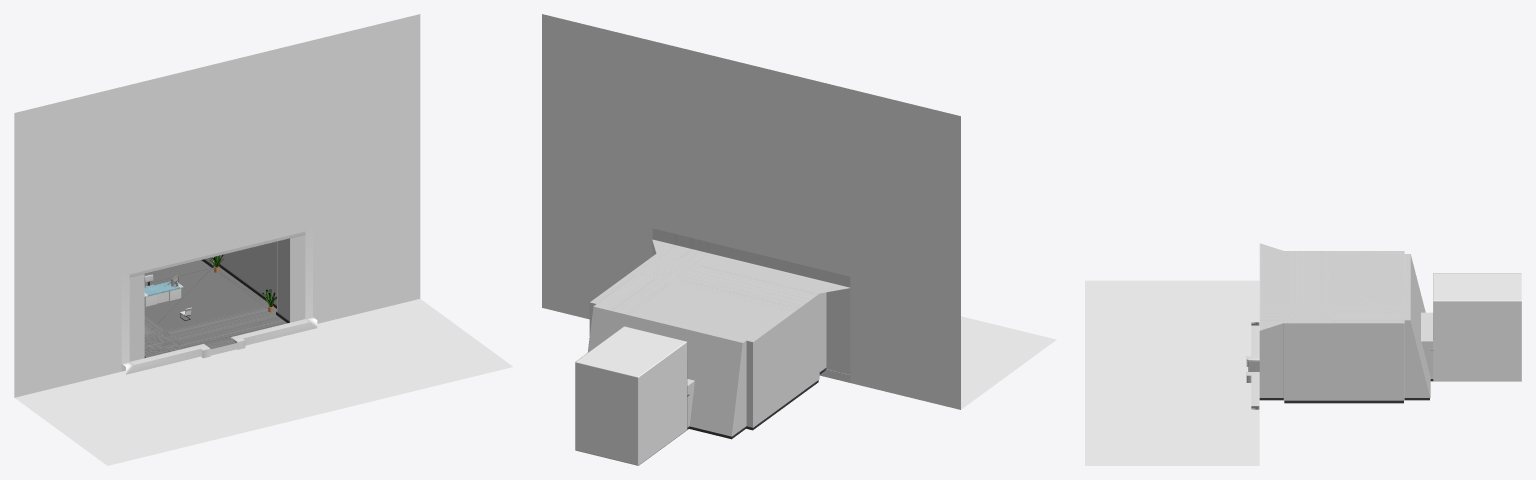
3 views of the same model, side by side, from view 1: azimuth 30°, elevation 25°; view 2: azimuth 150°, elevation 25°; view 3: azimuth 270°, elevation 25° (orthographic). The views are drawn at different scales.
Visible parts, largest first — view 1: a_pl02_outside_blank02:a_pl02_outside_blank01, um_a_pl02_model_a_pl02_modelShape:a_pl02_floor01_lmg04, um_a_pl02_model_a_pl02_modelShape:a_pl02_wall01_lmg09, nomerge_outside_edge_shape:mat_texture_edge01, um_a_pl02_model_a_pl02_modelShape:a_pl02_outsideedge01_lmg06, um_a_pl02_model_a_pl02_modelShape:a_pl02_loof01_lmg05; view 2: a_pl02_outside_blank02:a_pl02_outside_blank01, um_a_pl02_model_a_pl02_modelShape:a_pl02_wall01_lmg09, um_a_pl02_model_a_pl02_modelShape:a_pl02_loof01_lmg05, um_a_pl02_model_a_pl02_modelShape:a_pl02_outside_corridor01_; view 3: a_pl02_outside_blank02:a_pl02_outside_blank01, um_a_pl02_model_a_pl02_modelShape:a_pl02_wall01_lmg09, um_a_pl02_model_a_pl02_modelShape:a_pl02_loof01_lmg05, um_a_pl02_model_a_pl02_modelShape:a_pl02_outside_corridor01_, um_a_pl02_model_a_pl02_modelShape:a_pl02_outsideedge01_lmg06, um_a_pl02_model_a_pl02_modelShape:a_pl02_wall02_lmg09.
Part boxes in pixels (x1=…): a_pl02_outside_blank02:a_pl02_outside_blank01: x1=14, y1=14, x2=512, y2=465; um_a_pl02_model_a_pl02_modelShape:a_pl02_floor01_lmg04: x1=144, y1=260, x2=287, y2=357; um_a_pl02_model_a_pl02_modelShape:a_pl02_wall01_lmg09: x1=121, y1=235, x2=305, y2=365; nomerge_outside_edge_shape:mat_texture_edge01: x1=121, y1=222, x2=317, y2=374; um_a_pl02_model_a_pl02_modelShape:a_pl02_outsideedge01_lmg06: x1=121, y1=319, x2=309, y2=371; um_a_pl02_model_a_pl02_modelShape:a_pl02_loof01_lmg05: x1=129, y1=231, x2=305, y2=277; a_pl02_outside_blank02:a_pl02_outside_blank01: x1=542, y1=14, x2=1056, y2=409; um_a_pl02_model_a_pl02_modelShape:a_pl02_wall01_lmg09: x1=588, y1=242, x2=850, y2=436; um_a_pl02_model_a_pl02_modelShape:a_pl02_loof01_lmg05: x1=590, y1=228, x2=850, y2=342; um_a_pl02_model_a_pl02_modelShape:a_pl02_outside_corridor01_: x1=575, y1=326, x2=687, y2=465; a_pl02_outside_blank02:a_pl02_outside_blank01: x1=1085, y1=280, x2=1259, y2=465; um_a_pl02_model_a_pl02_modelShape:a_pl02_wall01_lmg09: x1=1259, y1=254, x2=1433, y2=400; um_a_pl02_model_a_pl02_modelShape:a_pl02_loof01_lmg05: x1=1259, y1=243, x2=1410, y2=330; um_a_pl02_model_a_pl02_modelShape:a_pl02_outside_corridor01_: x1=1433, y1=273, x2=1521, y2=381; um_a_pl02_model_a_pl02_modelShape:a_pl02_outsideedge01_lmg06: x1=1247, y1=322, x2=1259, y2=409; um_a_pl02_model_a_pl02_modelShape:a_pl02_wall02_lmg09: x1=1259, y1=379, x2=1433, y2=403.
Bounding box in the file's own units: 27.19 × 18.23 × 27.07.
Materials: 18 (16 with a texture image).
